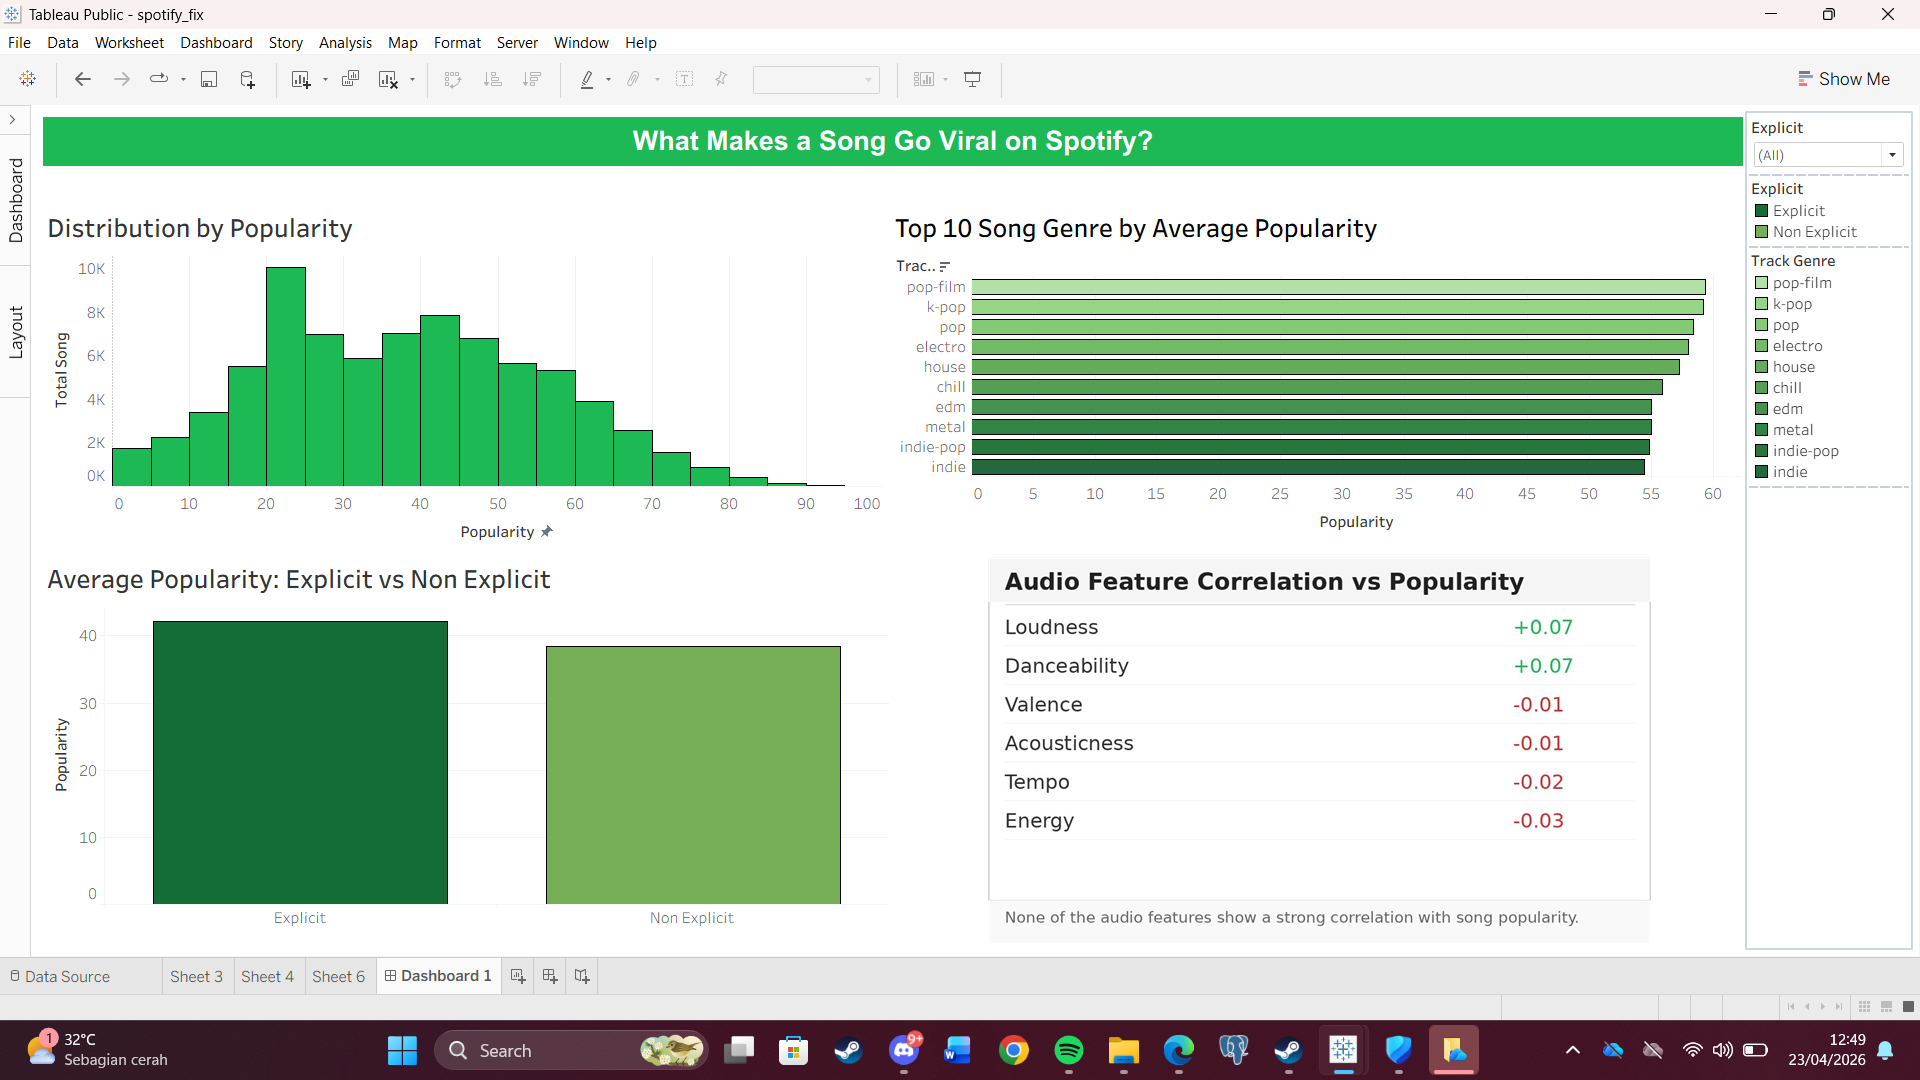

The page's visual inventory and layout, read from the dashboard file:
{"tool":"tableau","page":{"name":"Dashboard 1","canvas":[1000,1000],"units":"permille","ordinal":0},"visuals":[{"type":"title","box":[4.8,9.4,891.4,67]},{"type":"filter","title":"Sheet 6","param":"[federated.1y22iqd18zcrkt16nylrk0cg9rut].[none:explicit:nk]","box":[896.2,9.4,99,71.7]},{"type":"legend","title":"Sheet 6","param":"[federated.1y22iqd18zcrkt16nylrk0cg9rut].[none:explicit:nk]","box":[896.2,81.1,99,84.6]},{"type":"worksheet","title":"Sheet 3","mark":"Automatic","rows":["track_name"],"cols":["Popularity (bin)"],"box":[4.8,114,442.4,412.5]},{"type":"worksheet","title":"Sheet 4","mark":"Automatic","rows":["track_genre"],"cols":["popularity"],"box":[447.2,114,449,412.5]},{"type":"legend","title":"Sheet 4","param":"[federated.1y22iqd18zcrkt16nylrk0cg9rut].[none:track_genre:nk]","box":[896.2,165.7,99,282]},{"type":"worksheet","title":"Sheet 6","mark":"Automatic","rows":["popularity"],"cols":["explicit"],"box":[4.8,526.4,445.7,464.2]},{"type":"image","param":"Image/image.jpg","box":[450.5,526.4,445.7,464.2]}]}

Visuals, with their boxes on the dashboard's canvas, which has no fixed pixel size, in thousandths of its width and height (x1, y1, x2, y2). These are canvas units, not pixel positions in the 1920x1080 screenshot, which may show the page scaled, cropped or inside an application window:
title: 5, 9, 896, 76
"Sheet 6" filter: 896, 9, 995, 81
"Sheet 6" legend: 896, 81, 995, 166
"Sheet 3" worksheet: 5, 114, 447, 526
"Sheet 4" worksheet: 447, 114, 896, 526
"Sheet 4" legend: 896, 166, 995, 448
"Sheet 6" worksheet: 5, 526, 450, 991
image: 450, 526, 896, 991
